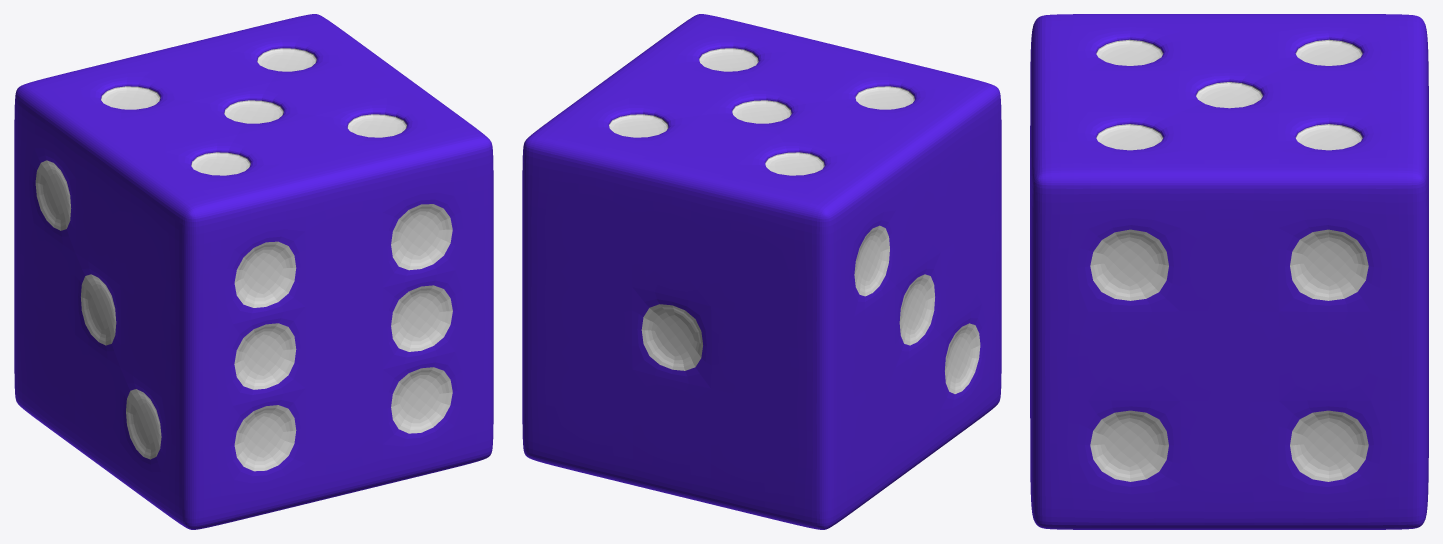
File: dice2.fbx
The picture shows the model from 3 angles, left to right: view 1: azimuth 30°, elevation 25°; view 2: azimuth 150°, elevation 25°; view 3: azimuth 270°, elevation 25°; orthographic projection. The views are drawn at different scales.
Visible parts, largest first — view 1: Cube; view 2: Cube; view 3: Cube.
Boxes of the visible parts, <box> form: Cube: <box>14,14,493,529</box>; Cube: <box>522,14,1001,529</box>; Cube: <box>1030,14,1428,529</box>.
Size of the model in its own units: 200 by 200 by 200.
